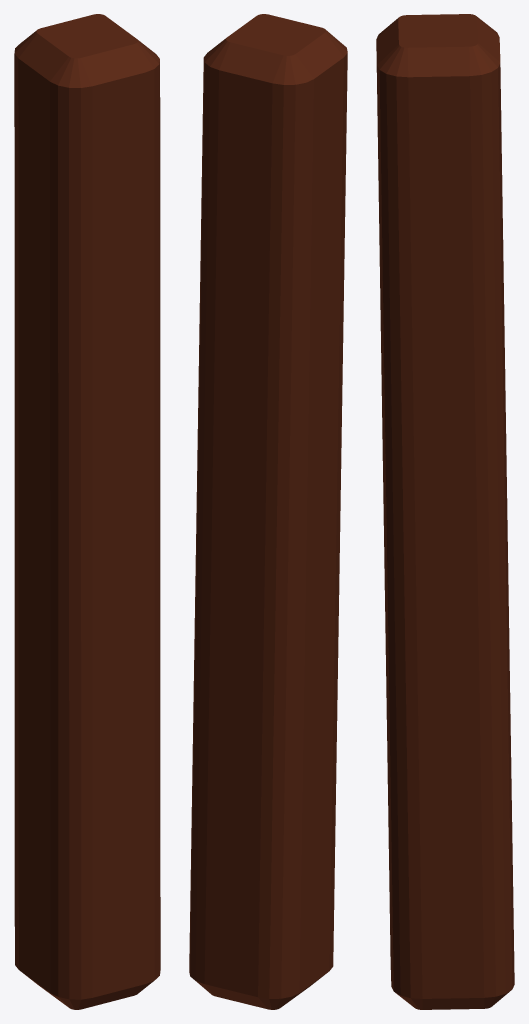
The model's file is Post_2m4.obj.
3 renders of one model, left to right at view 1: azimuth 30°, elevation 25°; view 2: azimuth 150°, elevation 25°; view 3: azimuth 270°, elevation 25°, orthographic.
Parts seen in each view (by area): view 1: Post_2m4; view 2: Post_2m4; view 3: Post_2m4.
Part boxes in pixels (x1,y1,x2,y2): Post_2m4: (14,14,160,1009); Post_2m4: (189,14,347,1009); Post_2m4: (376,14,514,1009).
Size of the model in its own units: 0.3014 by 2.4 by 0.314.
